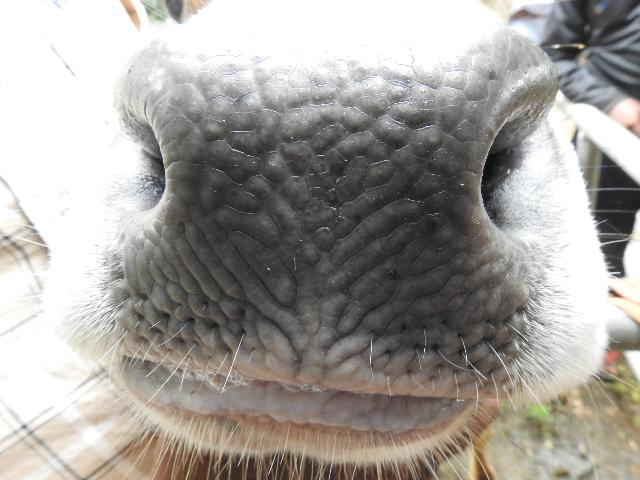Muzzle: (151, 45, 493, 385)
